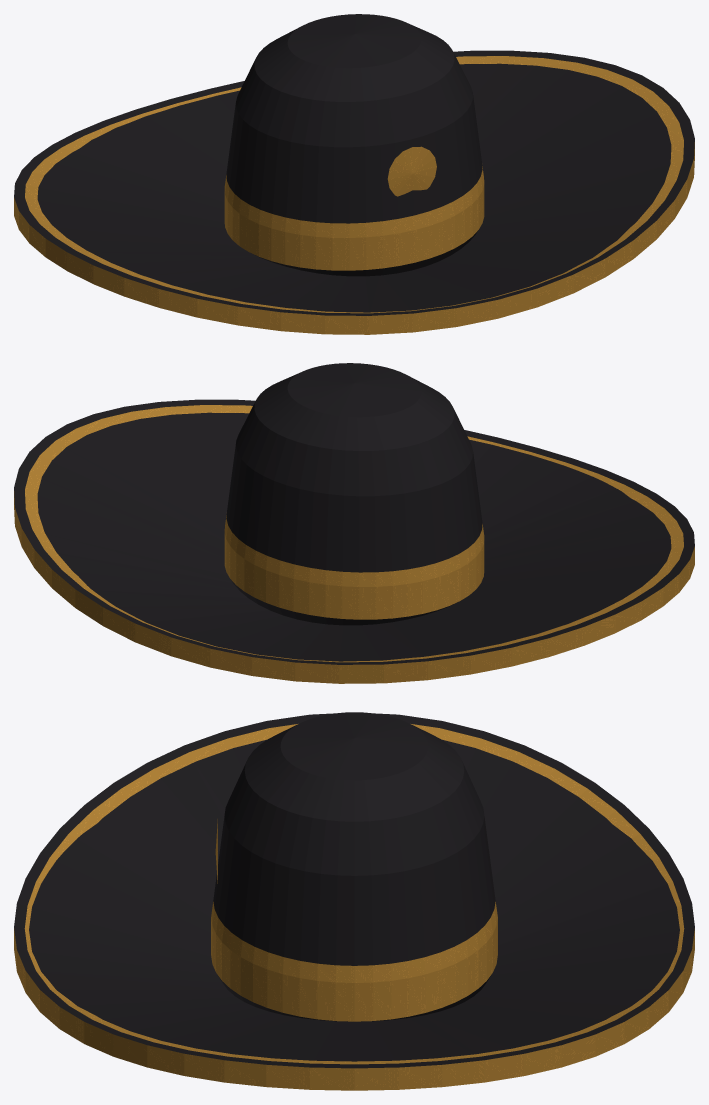
The model's file is sombrero_charro.obj.
3 renders of one model, top to bottom at view 1: azimuth 30°, elevation 25°; view 2: azimuth 150°, elevation 25°; view 3: azimuth 270°, elevation 25°, orthographic. The views are drawn at different scales.
Visible parts, largest first — view 1: SombreroCharro; view 2: SombreroCharro; view 3: SombreroCharro.
Boxes of the visible parts, x1=… form: SombreroCharro: x1=14, y1=14, x2=694, y2=334; SombreroCharro: x1=14, y1=363, x2=694, y2=683; SombreroCharro: x1=14, y1=712, x2=694, y2=1090.
Bounding box in the file's own units: 1.88 × 0.622 × 1.52.
2 materials, 2 textured.
